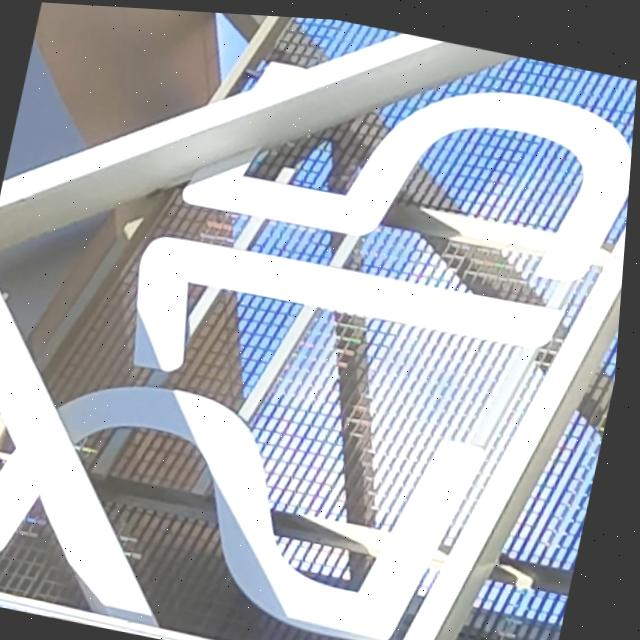character: (0, 336, 500, 640), (169, 18, 639, 298), (102, 212, 580, 451)
